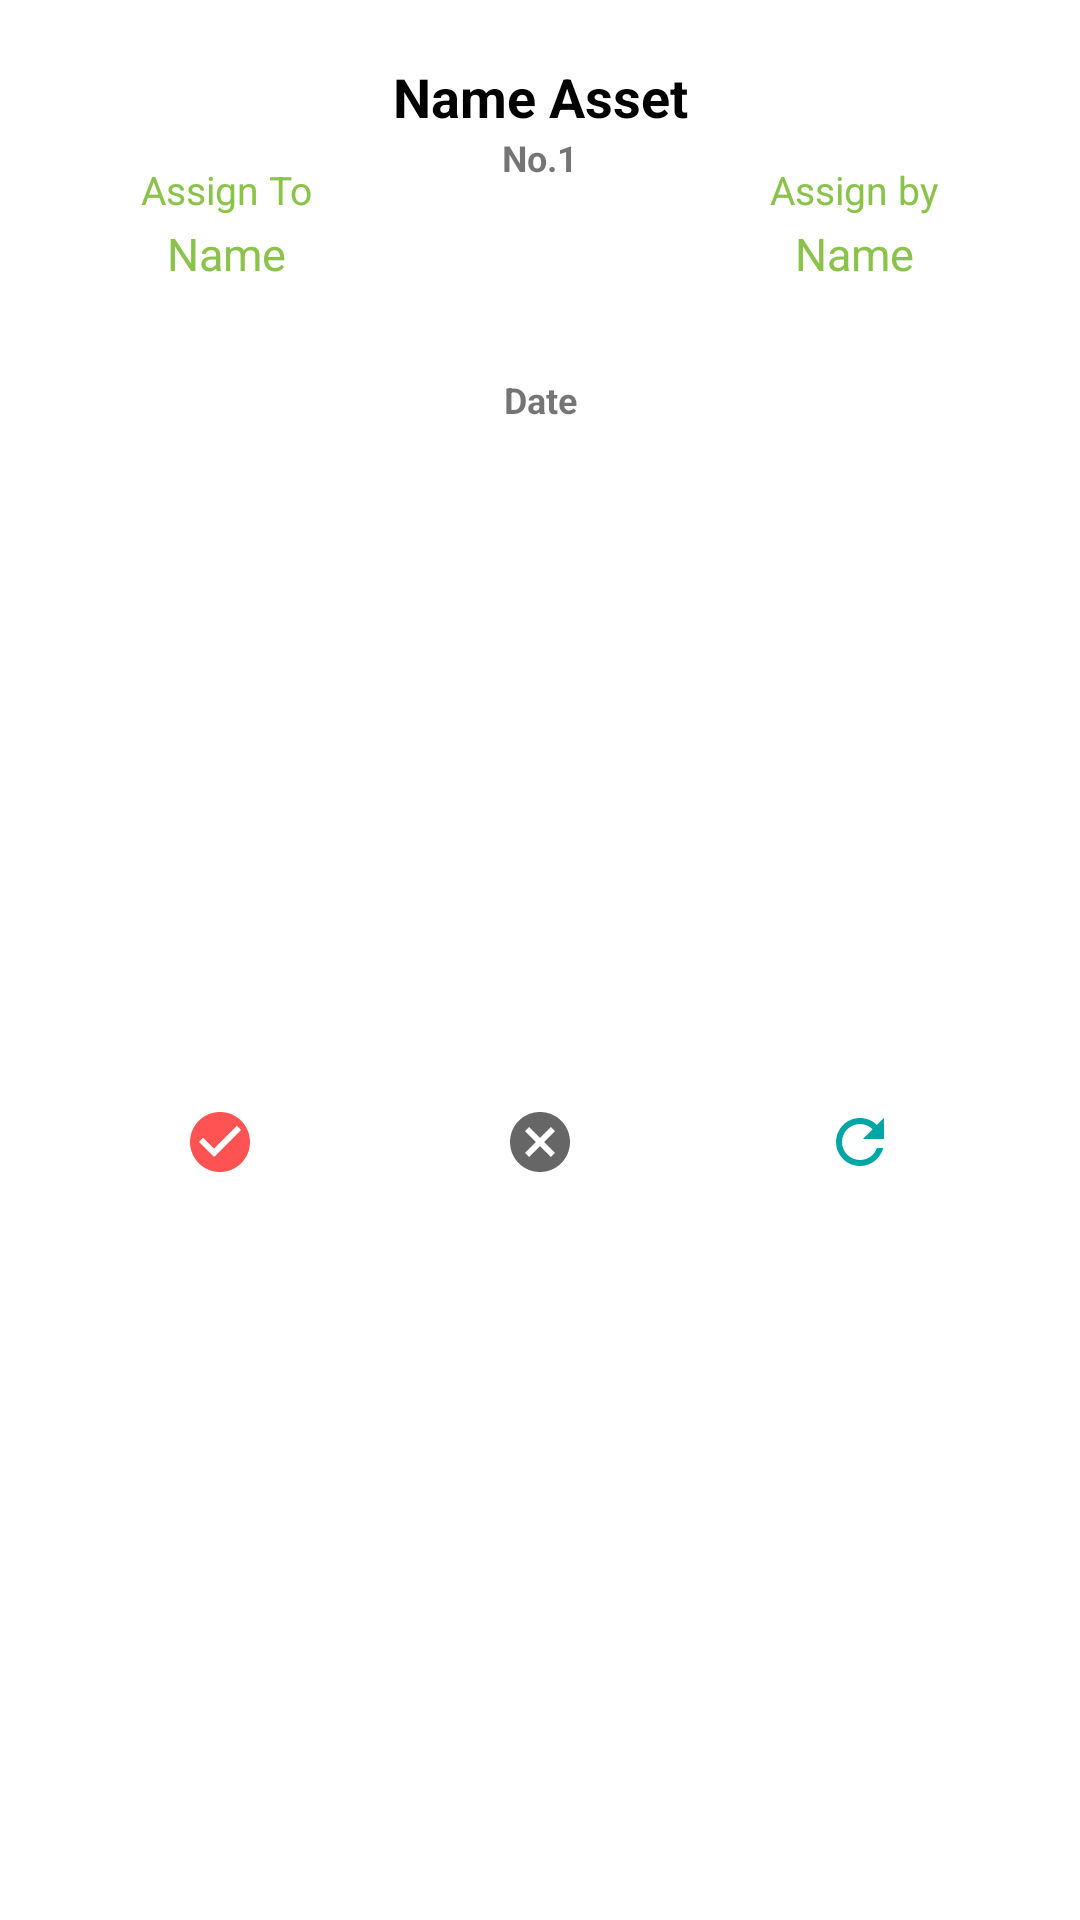

Locate icon controls on the screen. Image size 1080×1920, boxes as (x1, y1, x2, y2).
cancel: (510, 1112, 570, 1172)
check: (190, 1112, 250, 1172)
refresh: (836, 1118, 884, 1166)
